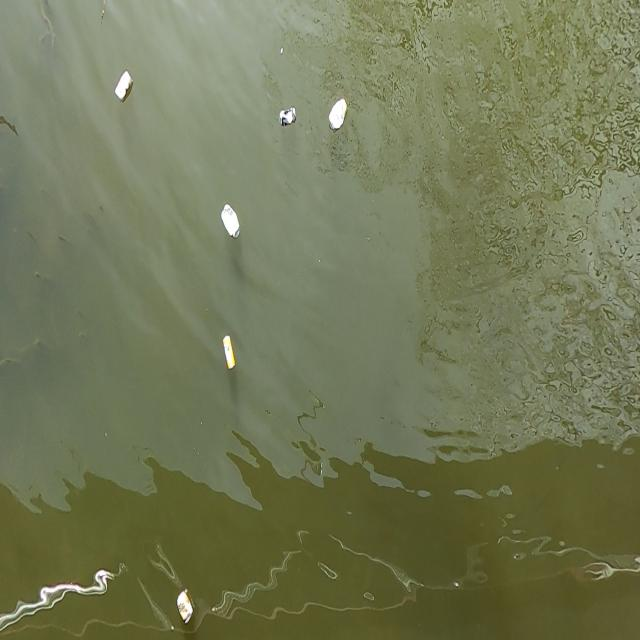Non plastique: (222, 204, 240, 237), (115, 72, 134, 101), (177, 592, 194, 623), (222, 335, 236, 369), (331, 100, 346, 129), (280, 108, 296, 125)
